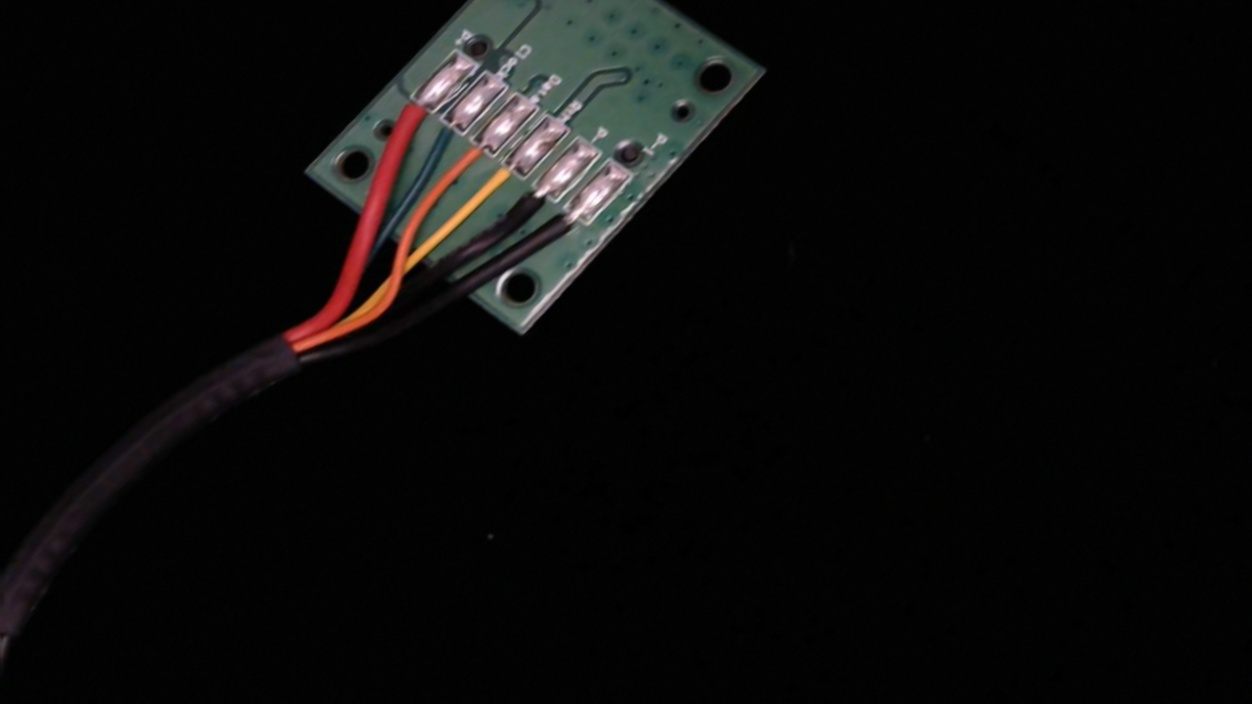Black: (485, 174, 567, 244)
Black1: (519, 196, 599, 265)
Green: (402, 106, 478, 168)
Orange: (439, 130, 504, 183)
Red: (368, 88, 446, 151)
Yellow: (455, 148, 538, 217)
